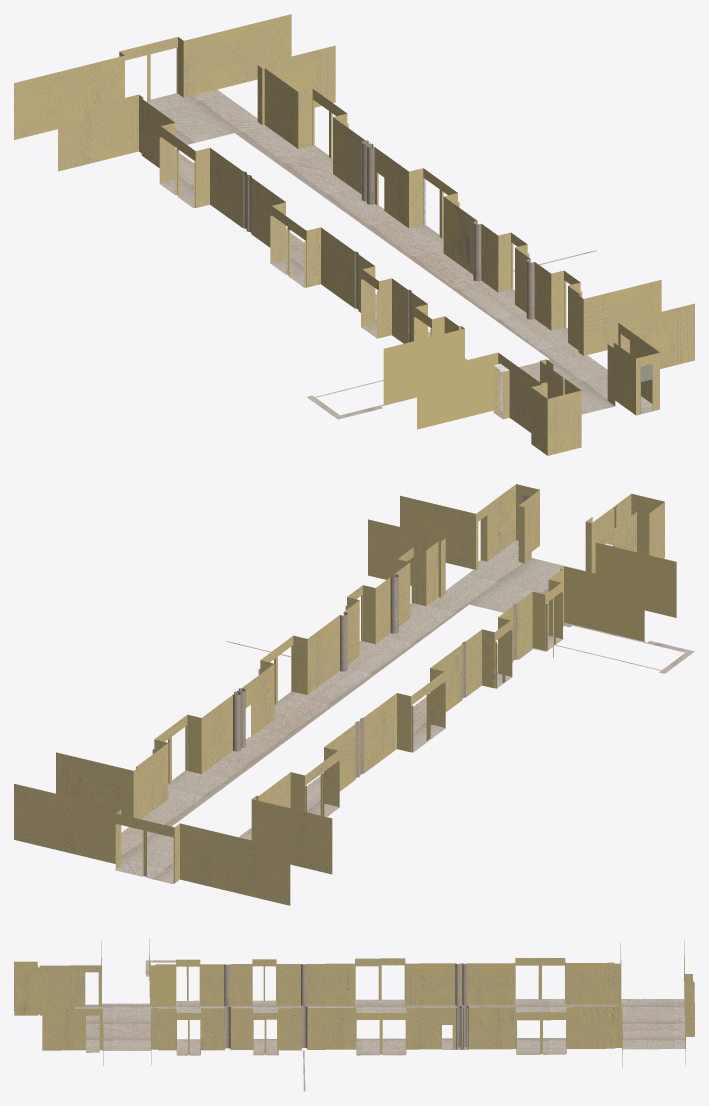
Rendered from COM034.obj.
3 renders of one model, top to bottom at view 1: azimuth 30°, elevation 25°; view 2: azimuth 150°, elevation 25°; view 3: azimuth 270°, elevation 25°, orthographic. The views are drawn at different scales.
Visible parts, largest first — view 1: Mesh1 COM034 Model; view 2: Mesh1 COM034 Model; view 3: Mesh1 COM034 Model.
Boxes of the visible parts, x1,y1,x2,y2 form: Mesh1 COM034 Model: (14,14,694,455); Mesh1 COM034 Model: (14,484,694,905); Mesh1 COM034 Model: (14,938,694,1091).
Bounding box in the file's own units: 24.3 × 4.45 × 53.18.
Materials: 7 (2 with a texture image).
